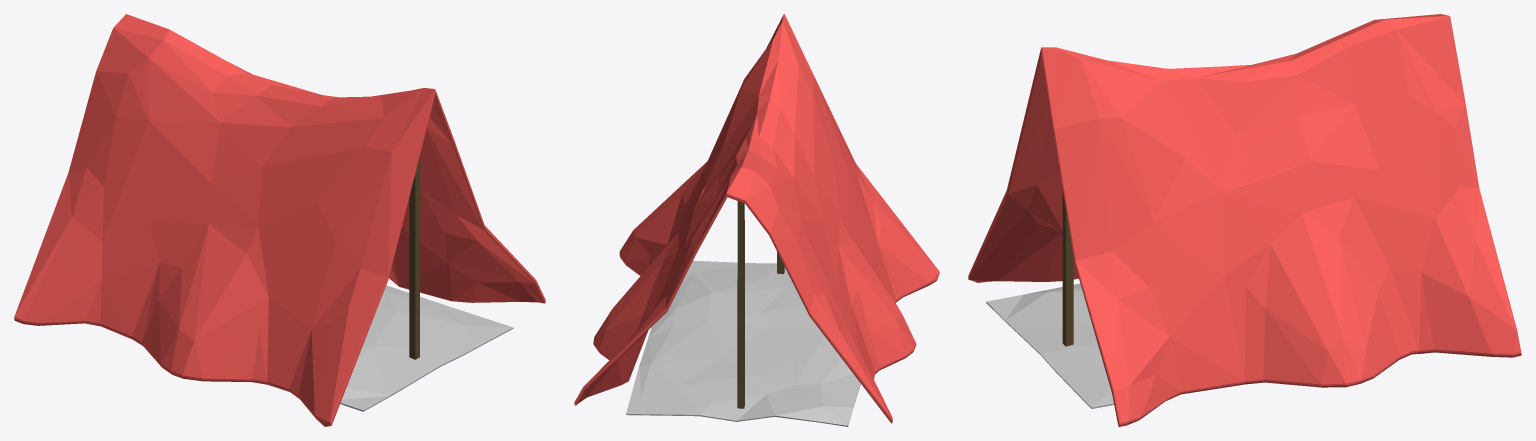
The model's file is uploads_files_4044517_untitled.obj.
3 renders of one model, left to right at view 1: azimuth 30°, elevation 25°; view 2: azimuth 150°, elevation 25°; view 3: azimuth 270°, elevation 25°, orthographic. The views are drawn at different scales.
Visible parts, largest first — view 1: Plane.001_Plane.004; view 2: Plane.001_Plane.004; view 3: Plane.001_Plane.004.
Part boxes in pixels (x1,y1,x2,y2): Plane.001_Plane.004: (14, 14, 545, 426); Plane.001_Plane.004: (574, 14, 939, 426); Plane.001_Plane.004: (968, 14, 1521, 426).
Bounding box in the file's own units: 2.83 × 1.83 × 2.97.
